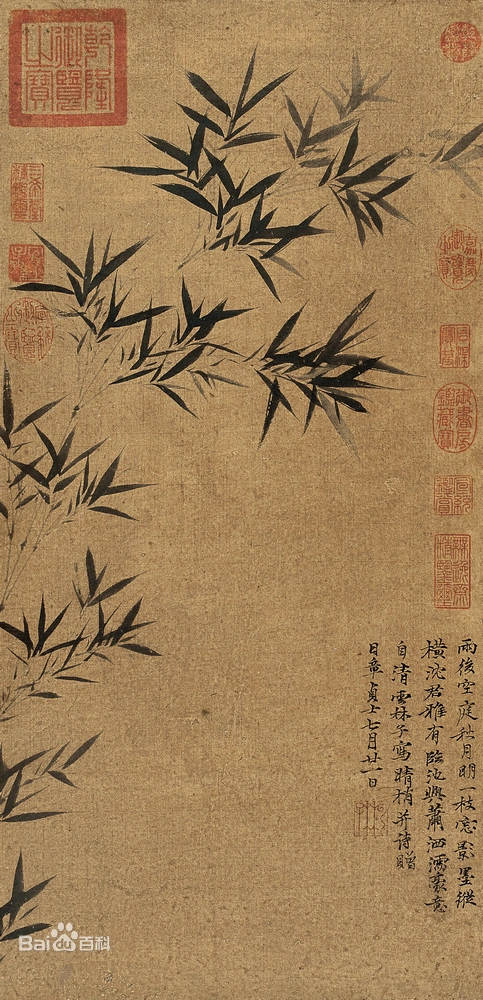bamboo: (4, 376, 158, 961), (22, 227, 399, 437), (170, 53, 432, 280)
